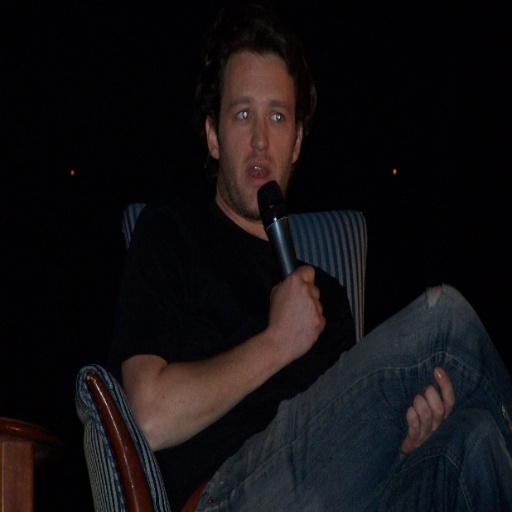hand: (125, 261, 336, 455), (398, 367, 454, 455)
